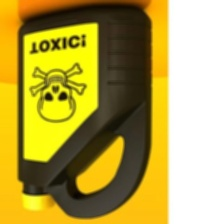insecticide: (13, 1, 154, 221)
